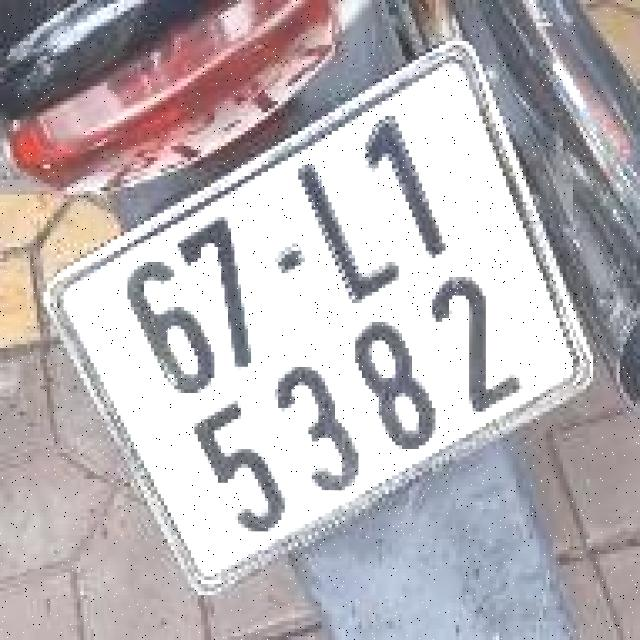1: (345, 101, 461, 273)
2: (418, 260, 535, 425)
3: (260, 342, 377, 509)
5: (111, 245, 228, 412), (185, 393, 299, 546)
7: (165, 204, 278, 385)
8: (332, 303, 449, 464)
L: (284, 142, 409, 322)
